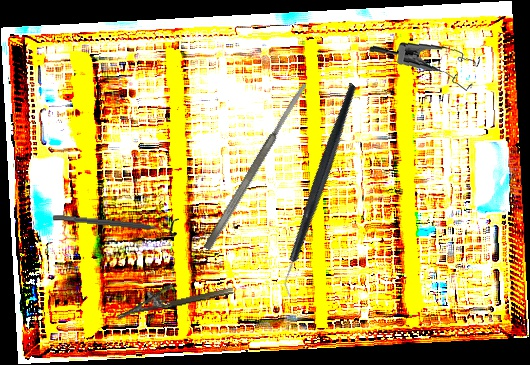Chopper: (221, 82, 422, 300)
Fixation Ring: (52, 207, 179, 238)
Needle Holder: (112, 271, 235, 320)
Spatula Surgical: (201, 81, 311, 252)
Speculum: (368, 35, 484, 99)
